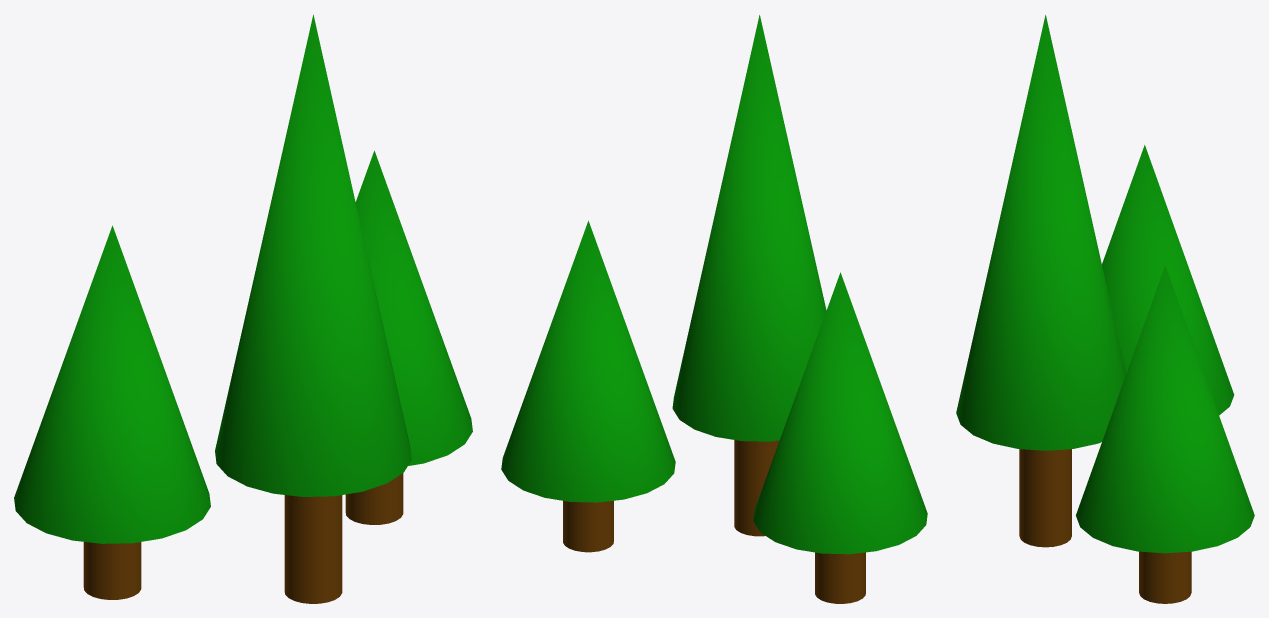
The model's file is Tree1.fbx.
3 views of the same model, side by side, from view 1: azimuth 30°, elevation 25°; view 2: azimuth 150°, elevation 25°; view 3: azimuth 270°, elevation 25° (orthographic). The views are drawn at different scales.
Parts seen in each view (by area): view 1: pCone5; view 2: pCone5; view 3: pCone5.
Boxes of the visible parts, <box> form: pCone5: <box>14,14,472,603</box>; pCone5: <box>501,15,927,603</box>; pCone5: <box>956,15,1254,603</box>.
Size of the model in its own units: 5.19 by 6.44 by 3.34.
